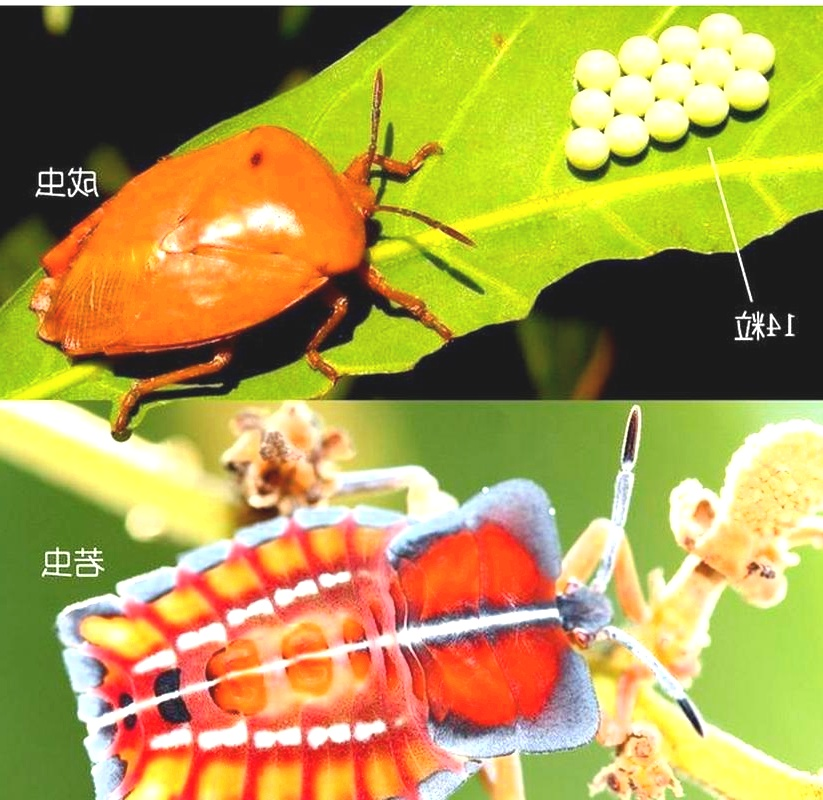Stink_Bug: (60, 431, 649, 800), (46, 111, 404, 374), (562, 13, 793, 177)
